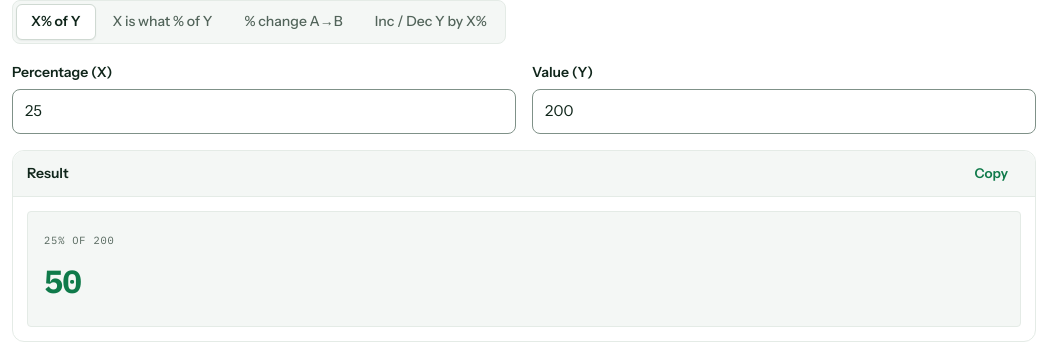
Test case: PercentageCalculator › mode "% change A→B": 100 → 150 = +50%
Click the tab "% change A→B": (294, 22) [229,4,358,40]
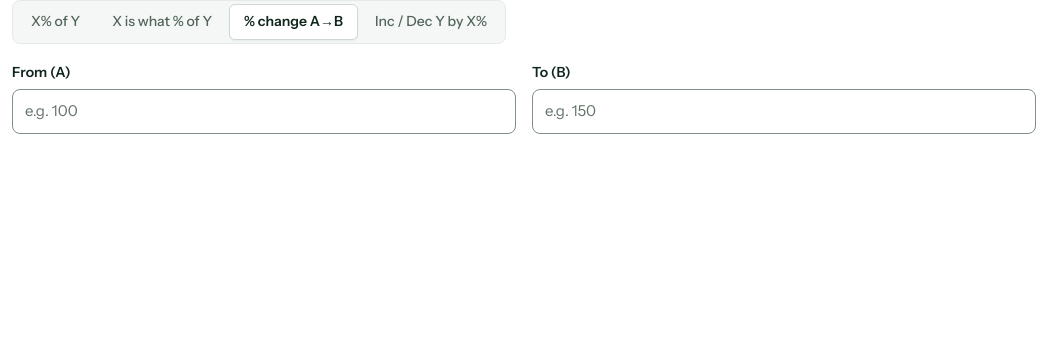
In the number field labelled "From (A)": (264, 112) [12,89,516,134], type "100"
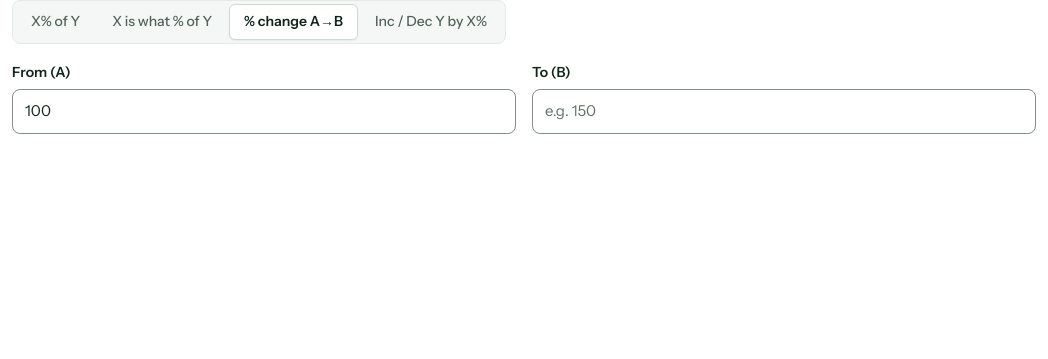
In the number field labelled "To (B)": (784, 112) [532,89,1036,134], type "150"
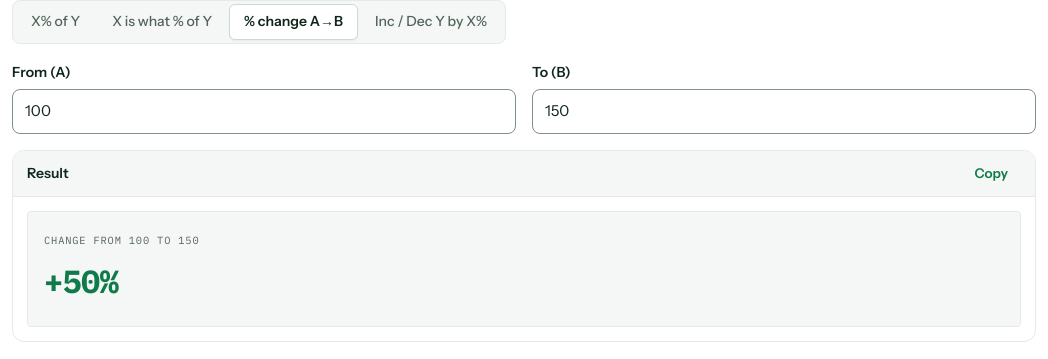
Expected: the text "+50%" is shown, [44,260,118,302]
